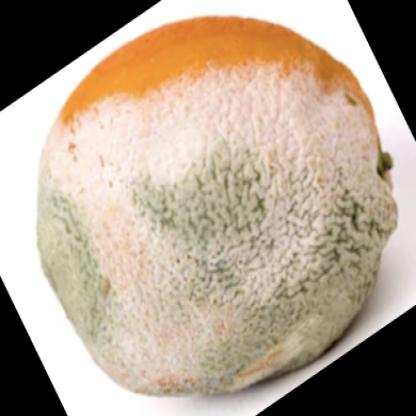rotten: (42, 18, 400, 394)
